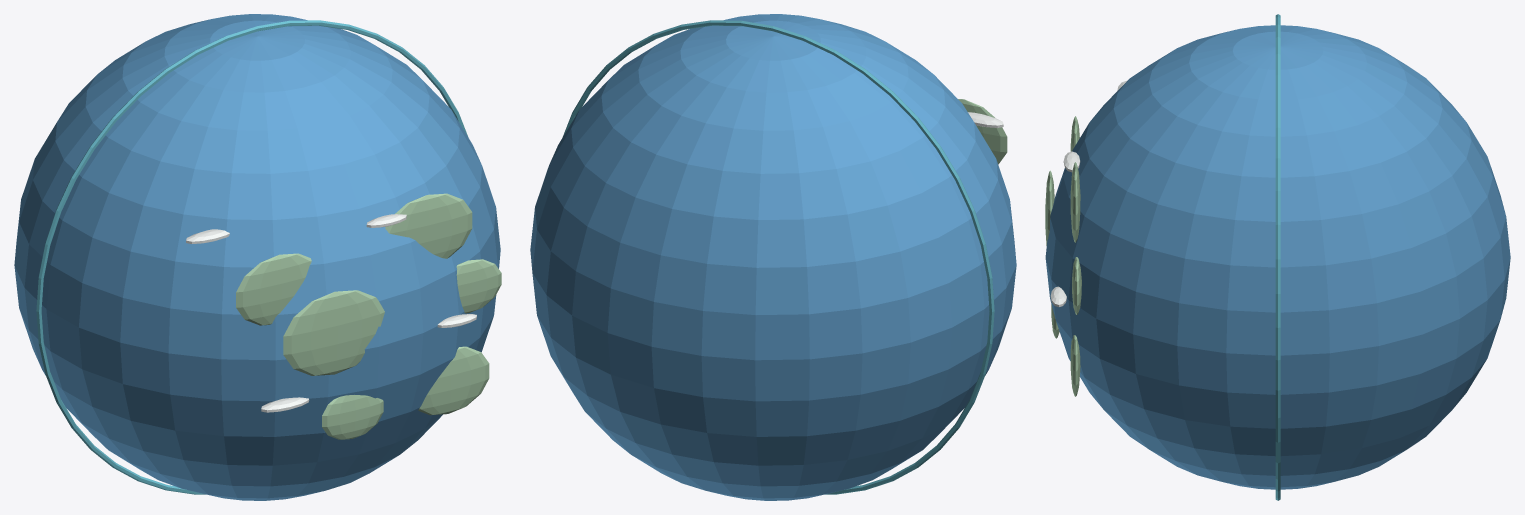
The model's file is tierra.glb.
3 views of the same model, side by side, from view 1: azimuth 30°, elevation 25°; view 2: azimuth 150°, elevation 25°; view 3: azimuth 270°, elevation 25° (orthographic). The views are drawn at different scales.
Parts seen in each view (by area): view 1: tierra; view 2: tierra; view 3: tierra.
Part boxes in pixels (bbox=[...]): tierra: bbox=[14, 14, 501, 500]; tierra: bbox=[530, 14, 1016, 500]; tierra: bbox=[1045, 14, 1510, 500].
Size of the model in its own units: 20.94 by 20.94 by 20.01.
